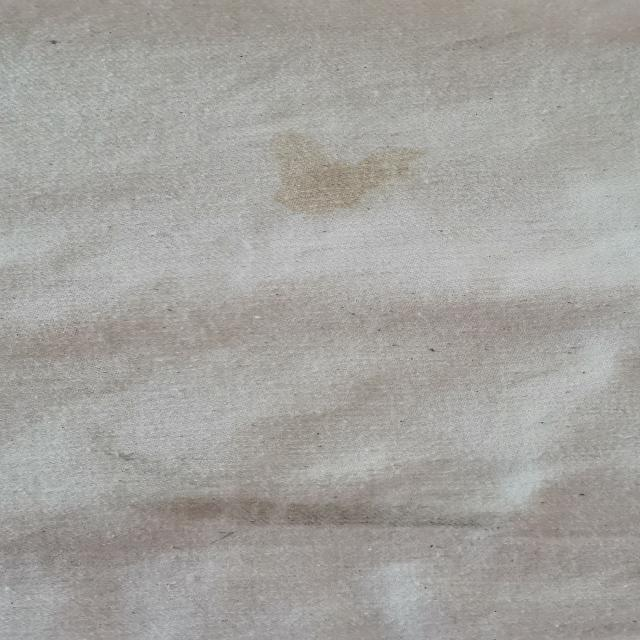taaaches: (99, 484, 551, 538), (246, 123, 455, 227), (75, 426, 147, 468)
